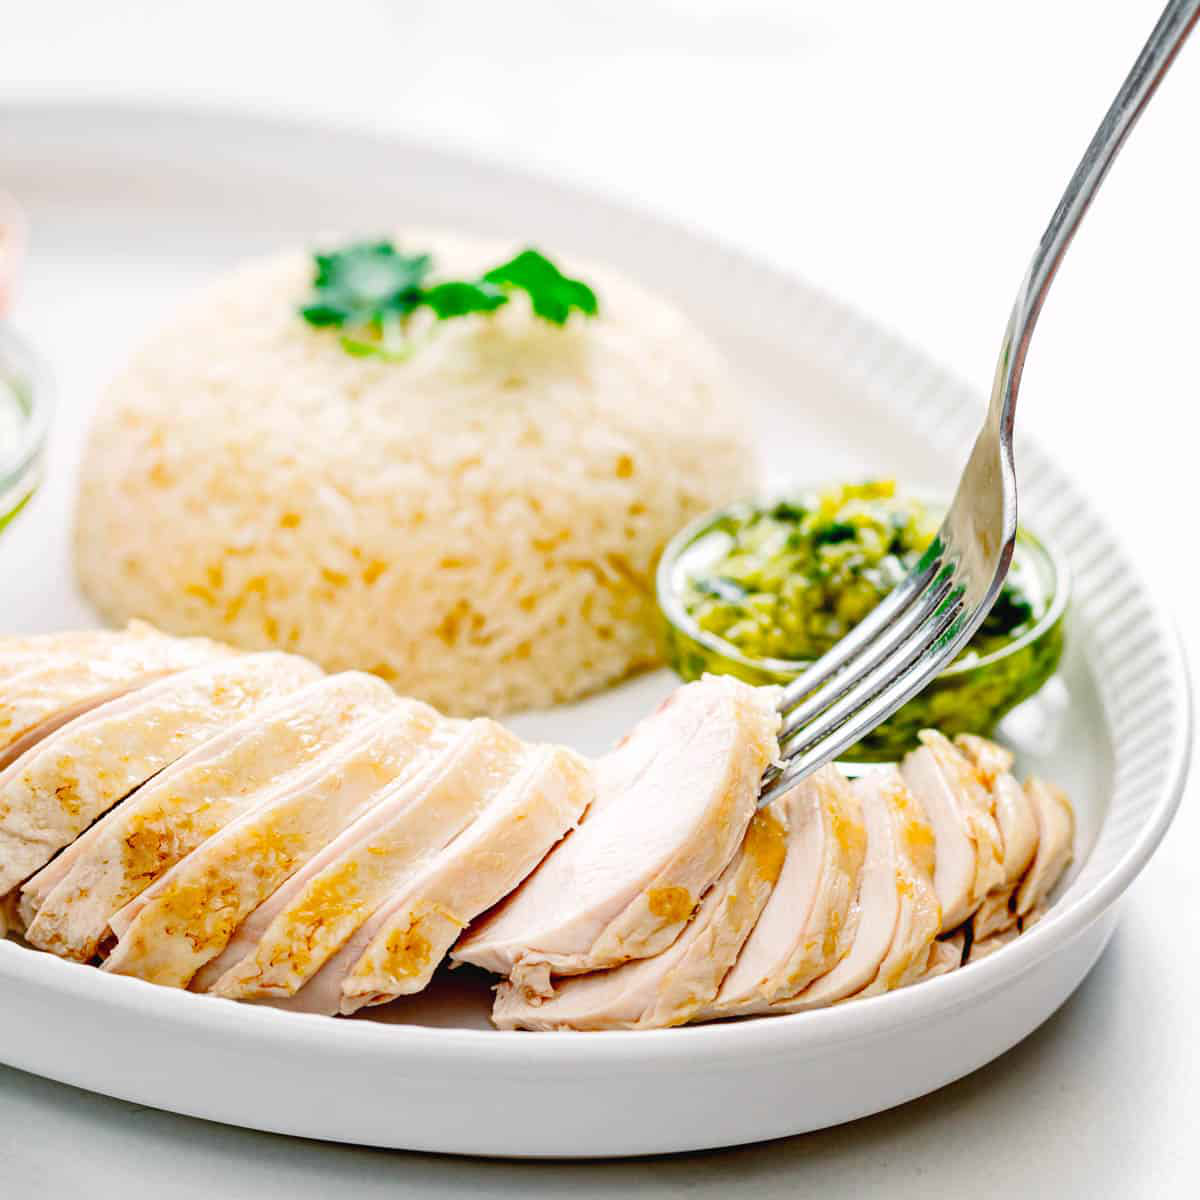Steamed Chicken Rice: (26, 214, 1056, 998)
